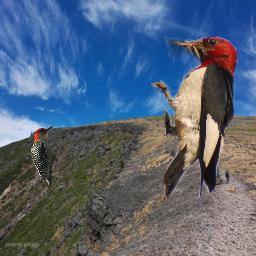Woodpecker: (151, 36, 238, 203), (30, 125, 58, 188)
